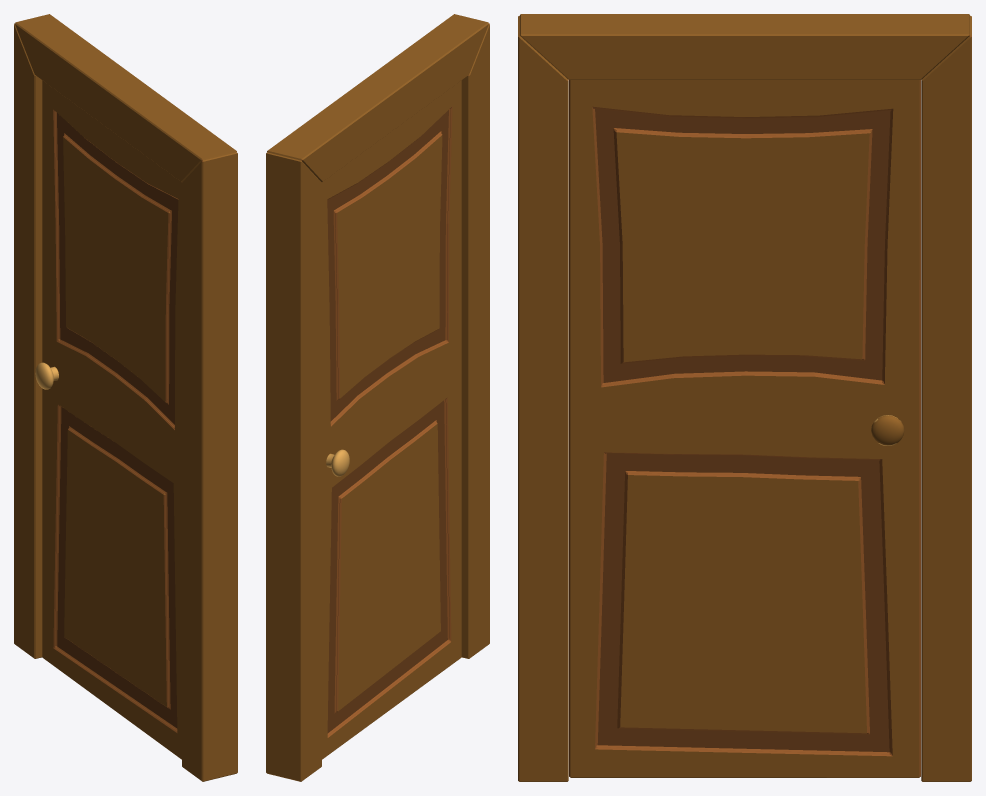
Rendered from Door4.glb.
3 renders of one model, left to right at view 1: azimuth 30°, elevation 25°; view 2: azimuth 150°, elevation 25°; view 3: azimuth 270°, elevation 25°, orthographic. The views are drawn at different scales.
Visible parts, largest first — view 1: Door, Door_frame; view 2: Door, Door_frame; view 3: Door, Door_frame.
Boxes of the visible parts, x1,y1,x2,y2 form: Door: (35,80,182,759); Door_frame: (14,14,237,781); Door: (321,80,461,759); Door_frame: (266,14,489,781); Door: (569,80,920,777); Door_frame: (518,14,971,781).
Size of the model in its own units: 0.1936 by 2.07 by 1.14.
Materials: 2 (1 with a texture image).
